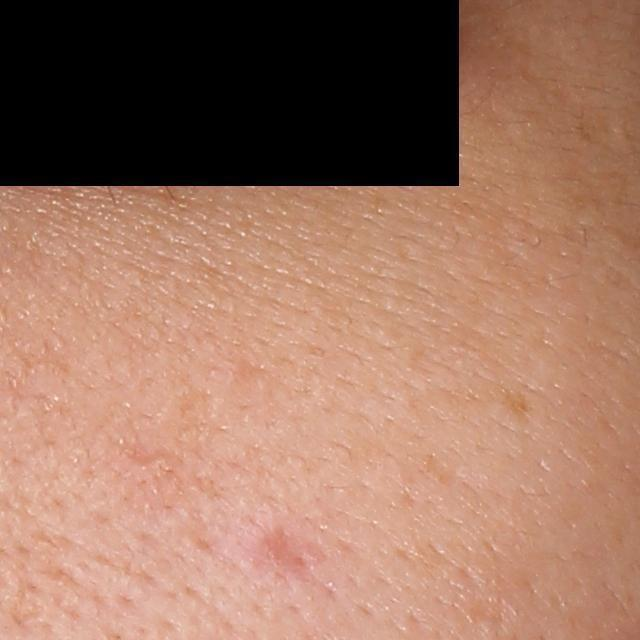melasma: (500, 387, 530, 424)
